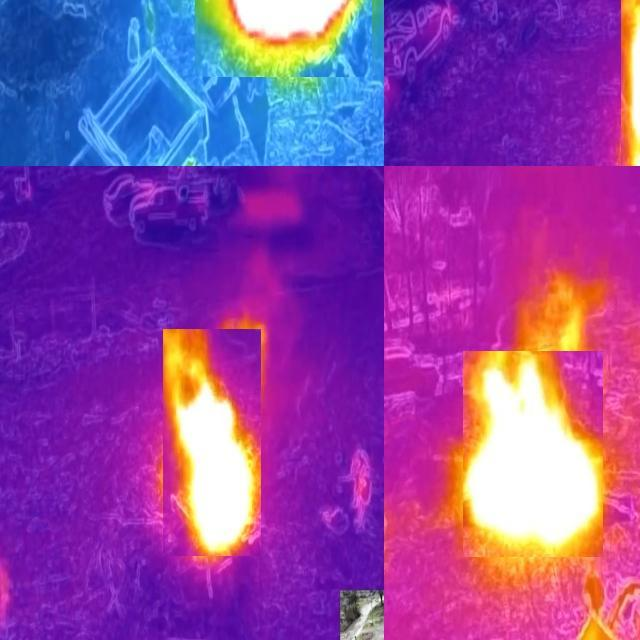fire: (464, 352, 604, 558), (164, 330, 262, 557), (196, 1, 373, 78)
